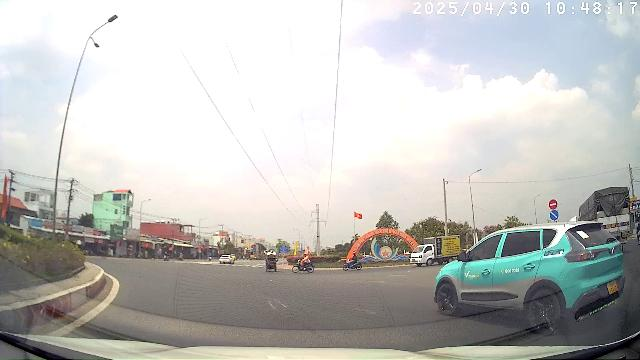102-cam-di-nguoc-chieu: (548, 199, 558, 209)
302a-huong-phai-di-vong-chuong-ngai-vat-1: (549, 210, 559, 220)
